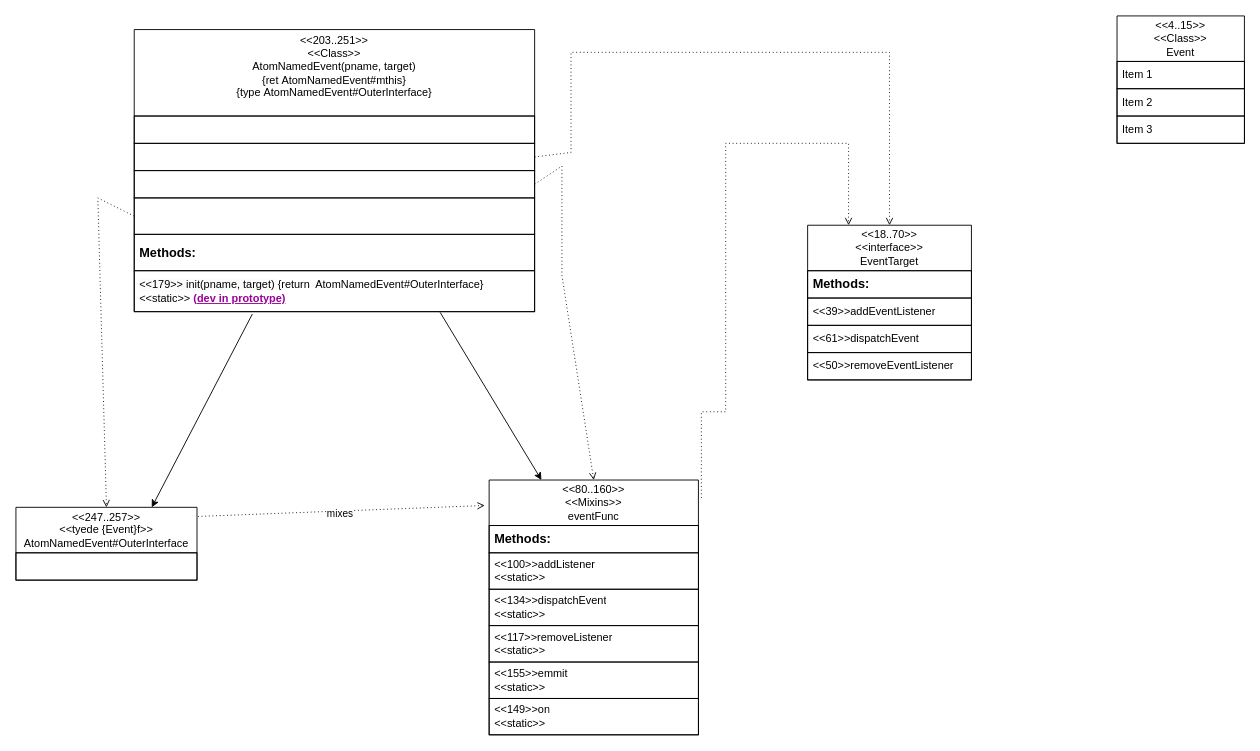
This 1260x751 diagram has some shape labels left out. The shapes that lost their labels are listed below. From the top down, each one's centre as x and y in pixels, then its label:
At [334,129]: "Members:".
At [334,156]: "<<77>>{type EventTartget}target (dev in prototype)".
At [334,184]: "<<97>>{type AtomNamedEvent. eventFunc}func (dev in prototype)".
At [334,215]: "<<242>>{type AtomNamedEvent# OuterInterface}mthis <<readonly>>".
At [106,566]: "{type AtomNamedEvent} _this".
